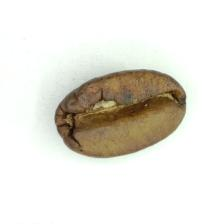NG: (58, 68, 177, 129)
